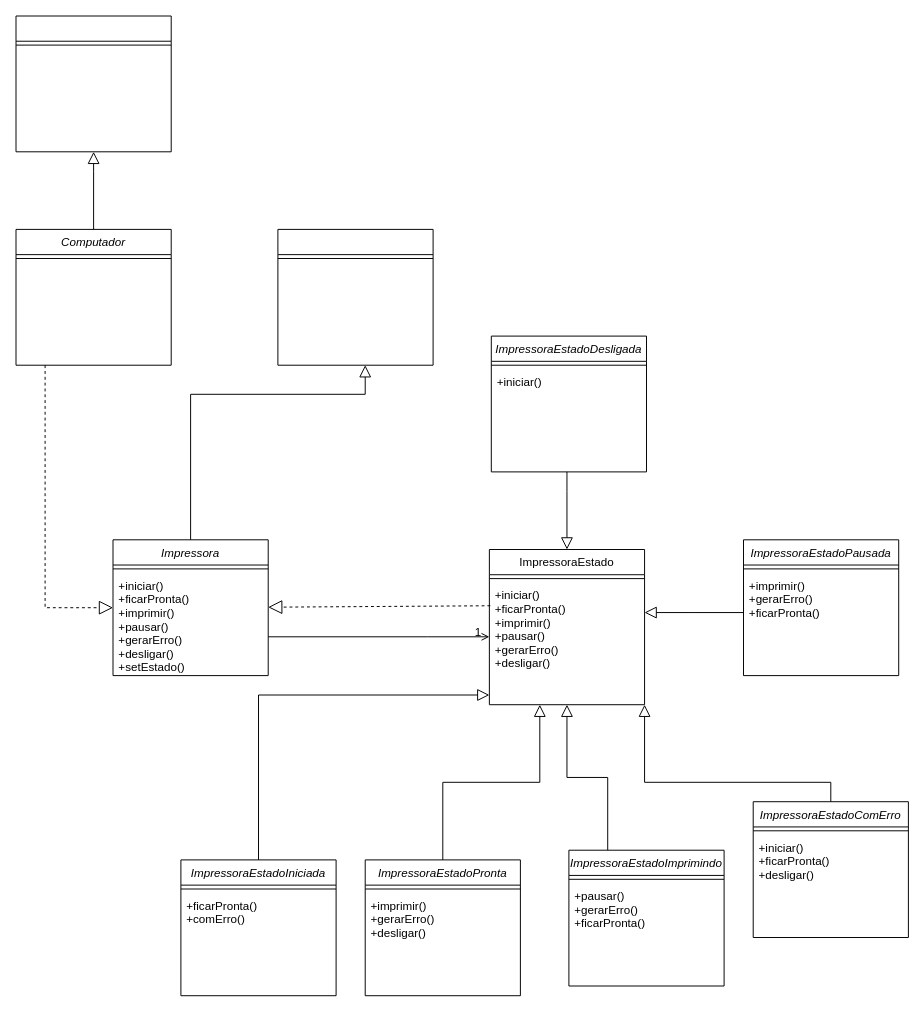
The diagram is 924 pixels wide and 1012 high, and some of its shapes have lost their labels. Each missing label, with the centre of its shape:
Observable: (x=355, y=296)
Observer: (x=93, y=83)
